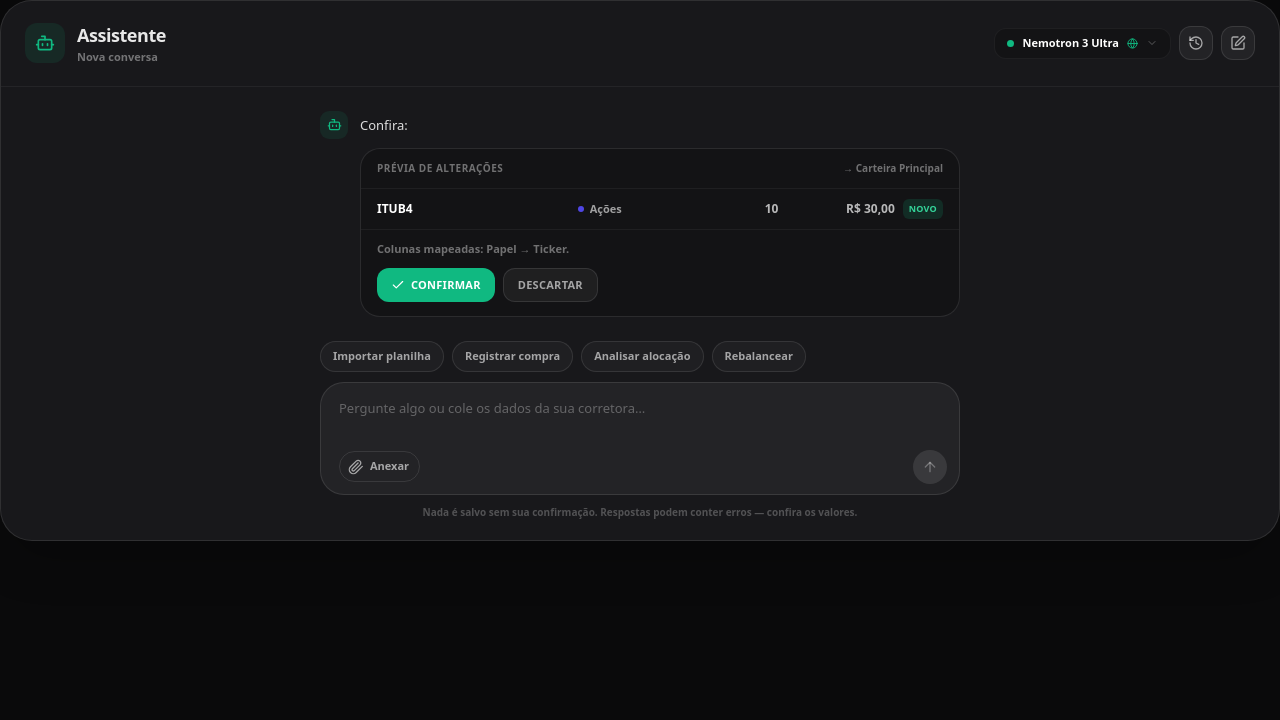
ChatPanel › dismisses a proposal without saving
Step 1. Click the button "Descartar" → (550, 285), box [503, 268, 598, 302]
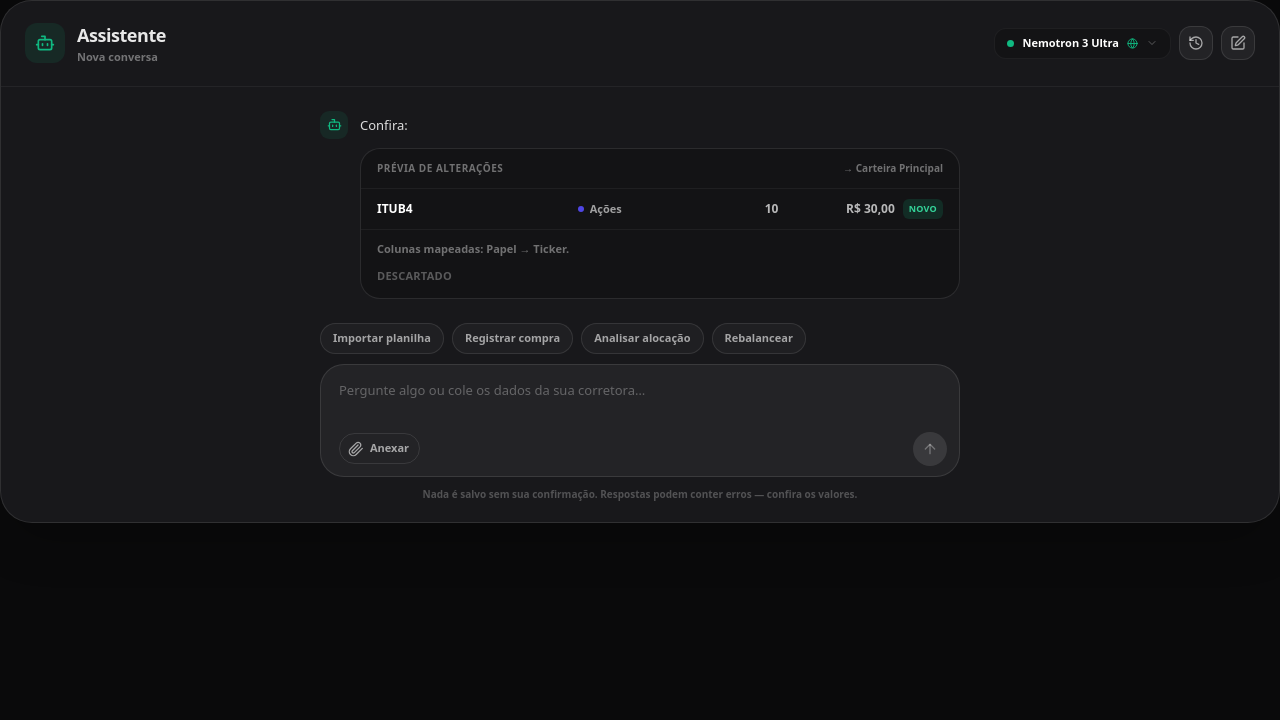
Expected: the text "Descartado" is shown, [377, 268, 452, 282]
